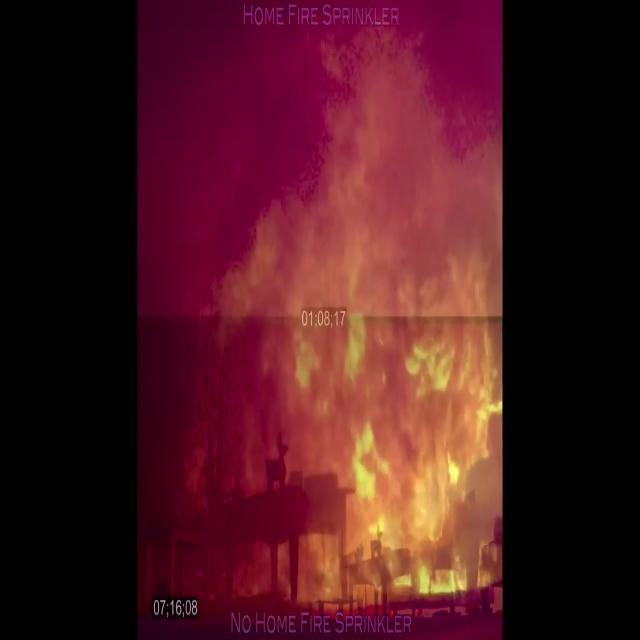Fire: (299, 229, 502, 606)
